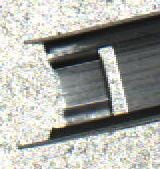press: (17, 13, 150, 153)
